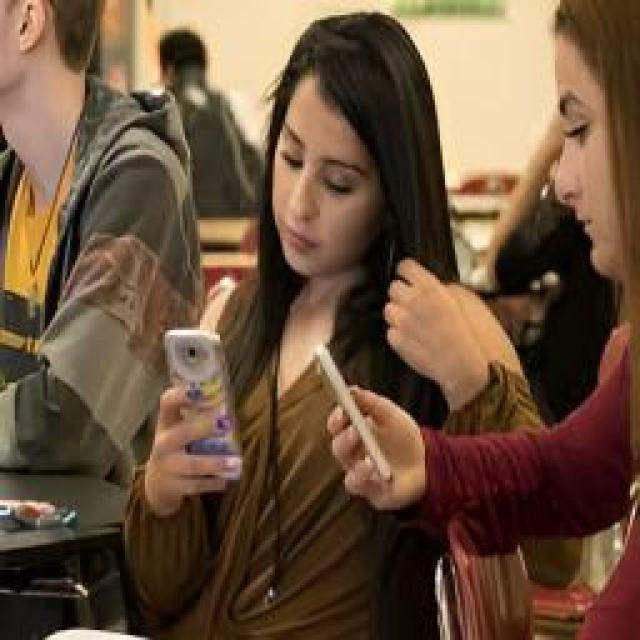phone: (132, 10, 582, 608), (310, 0, 640, 640)
